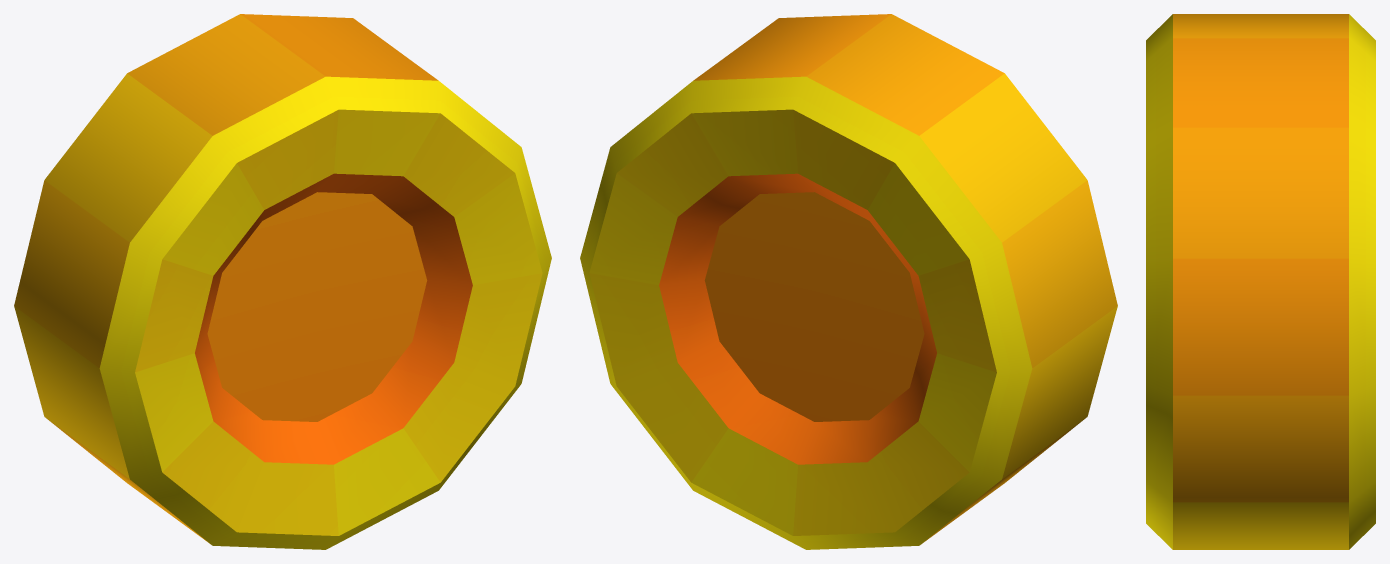
The model's file is Coin_01.fbx.
3 renders of one model, left to right at view 1: azimuth 30°, elevation 25°; view 2: azimuth 150°, elevation 25°; view 3: azimuth 270°, elevation 25°, orthographic. The views are drawn at different scales.
Parts seen in each view (by area): view 1: Coin_Color_01; view 2: Coin_Color_01; view 3: Coin_Color_01.
Part boxes in pixels (x1,y1,x2,y2): Coin_Color_01: [14, 14, 551, 549]; Coin_Color_01: [580, 14, 1117, 549]; Coin_Color_01: [1146, 14, 1375, 549].
Size of the model in its own units: 47.68 by 47.68 by 20.38.
